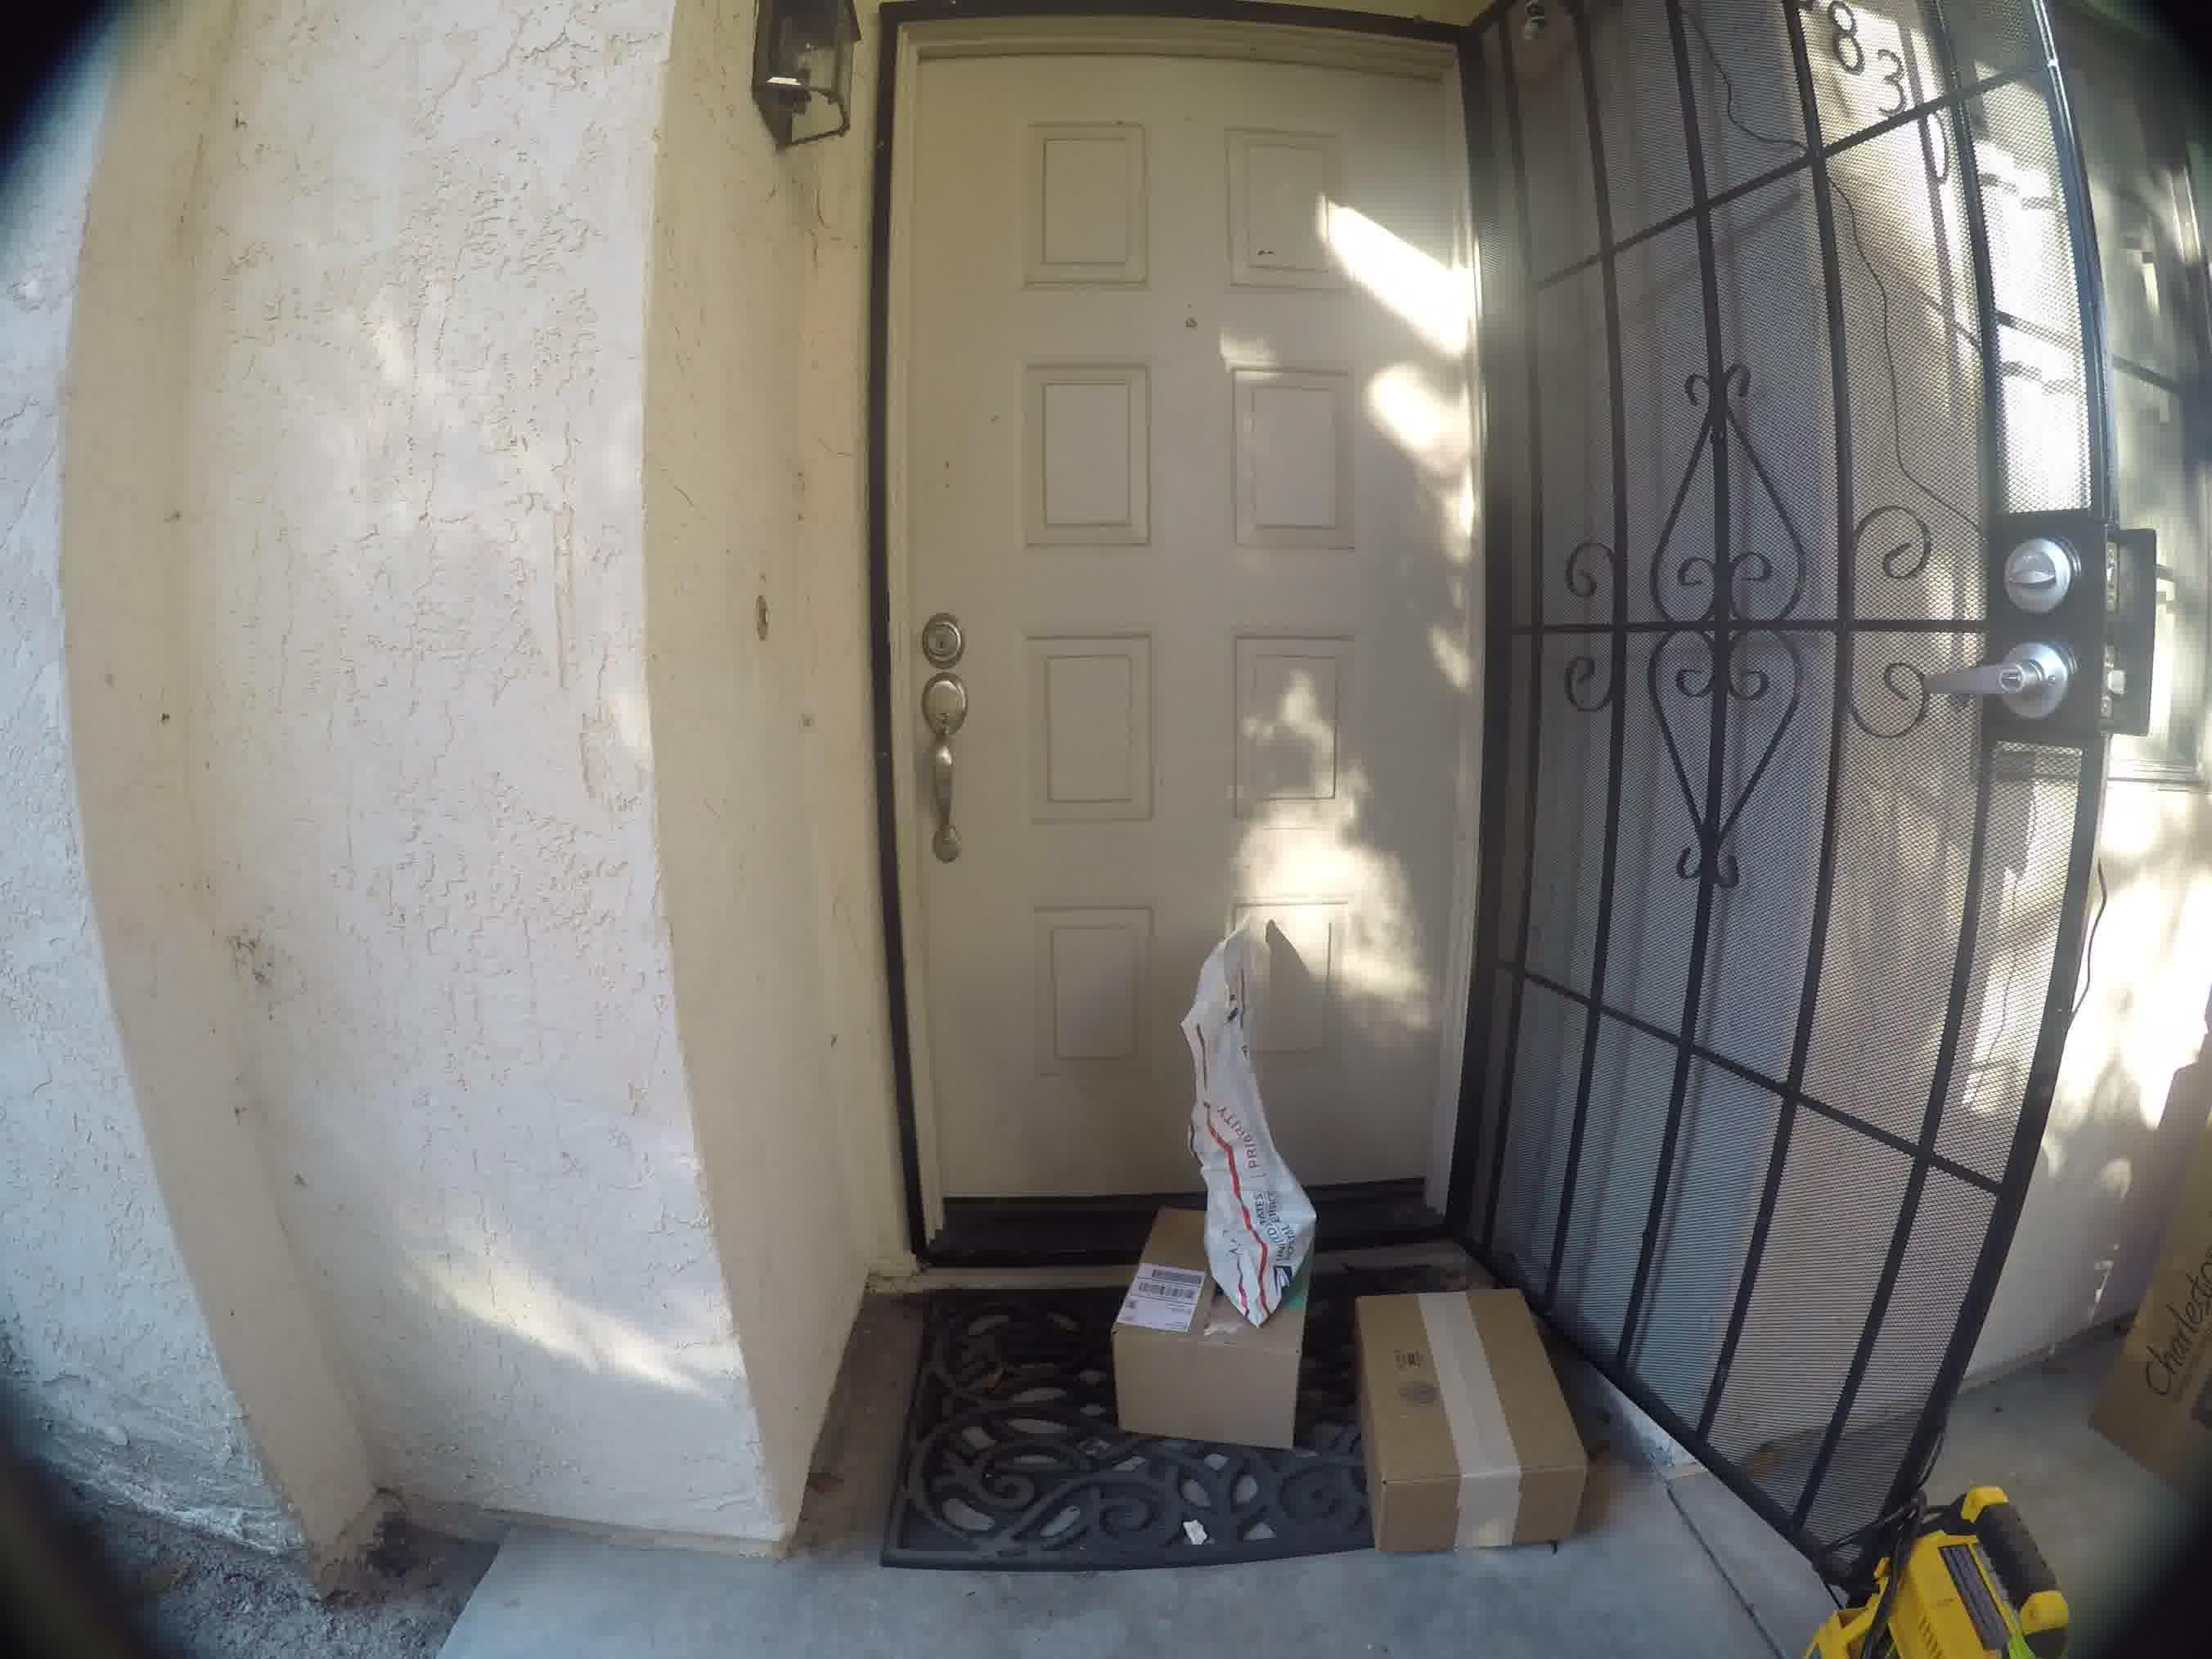box: (1336, 1276, 1583, 1549), (1103, 1283, 1305, 1455)
plastic_bag: (1158, 936, 1324, 1297)
